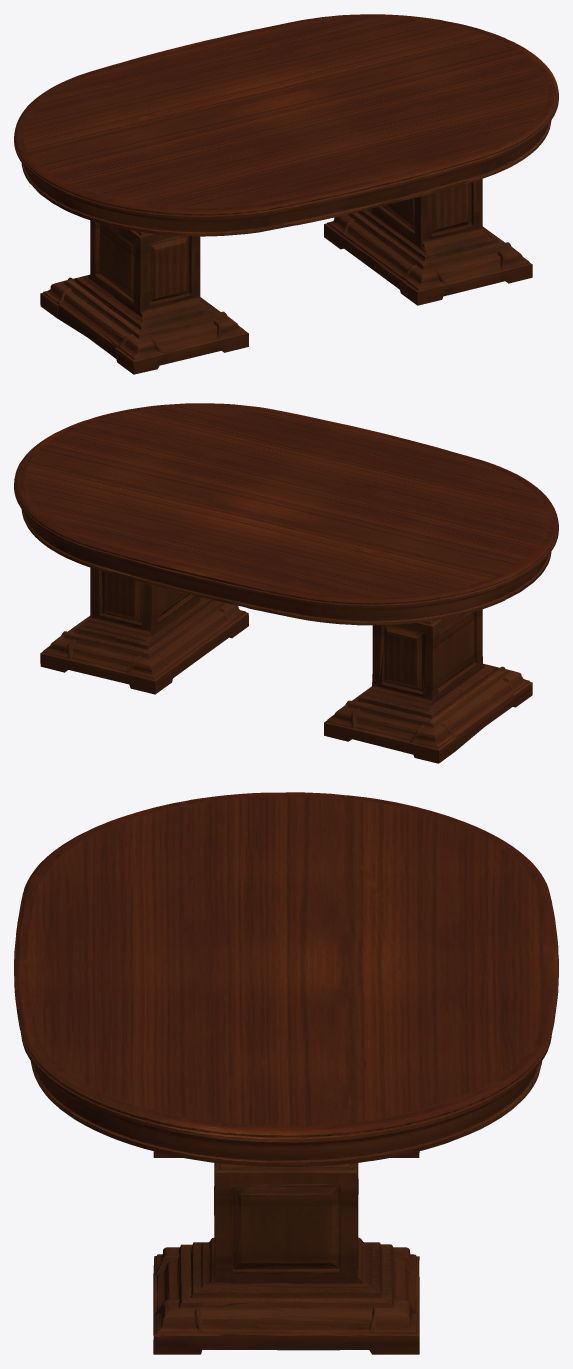
Rendered from harkness_table.glb.
3 renders of one model, top to bottom at view 1: azimuth 30°, elevation 25°; view 2: azimuth 150°, elevation 25°; view 3: azimuth 270°, elevation 25°, orthographic. The views are drawn at different scales.
Bounding box in the file's own units: 1.9 × 0.6587 × 1.27.
Materials: 1 (1 with a texture image).
